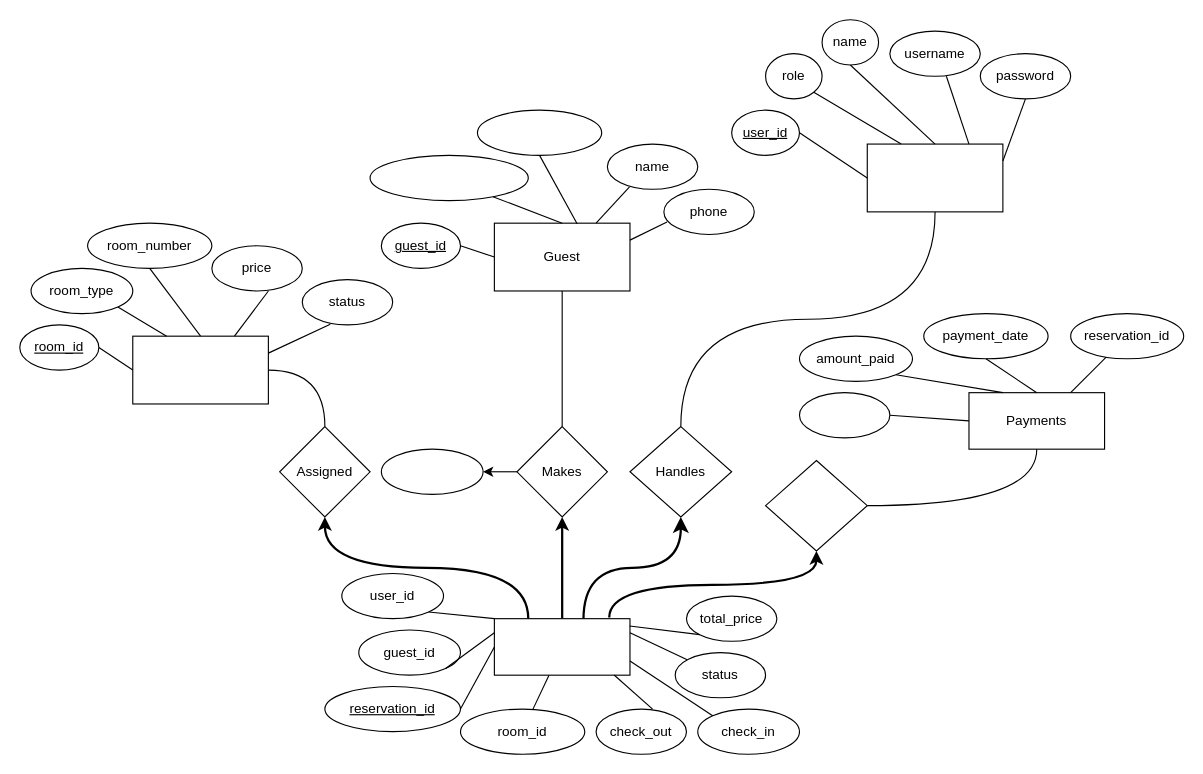
Some shapes in this 1203 by 774 pixel diagram are drawn without their labels. Here are the shapes that lost their labels. From the top down, the centre of each, then its label:
the point at 539,132: document_type
the point at 448,177: document_number
the point at 934,177: Users
the point at 200,369: Room
the point at 844,415: payment_id
the point at 431,471: start_from
the point at 815,505: Has
the point at 561,646: Reservation
